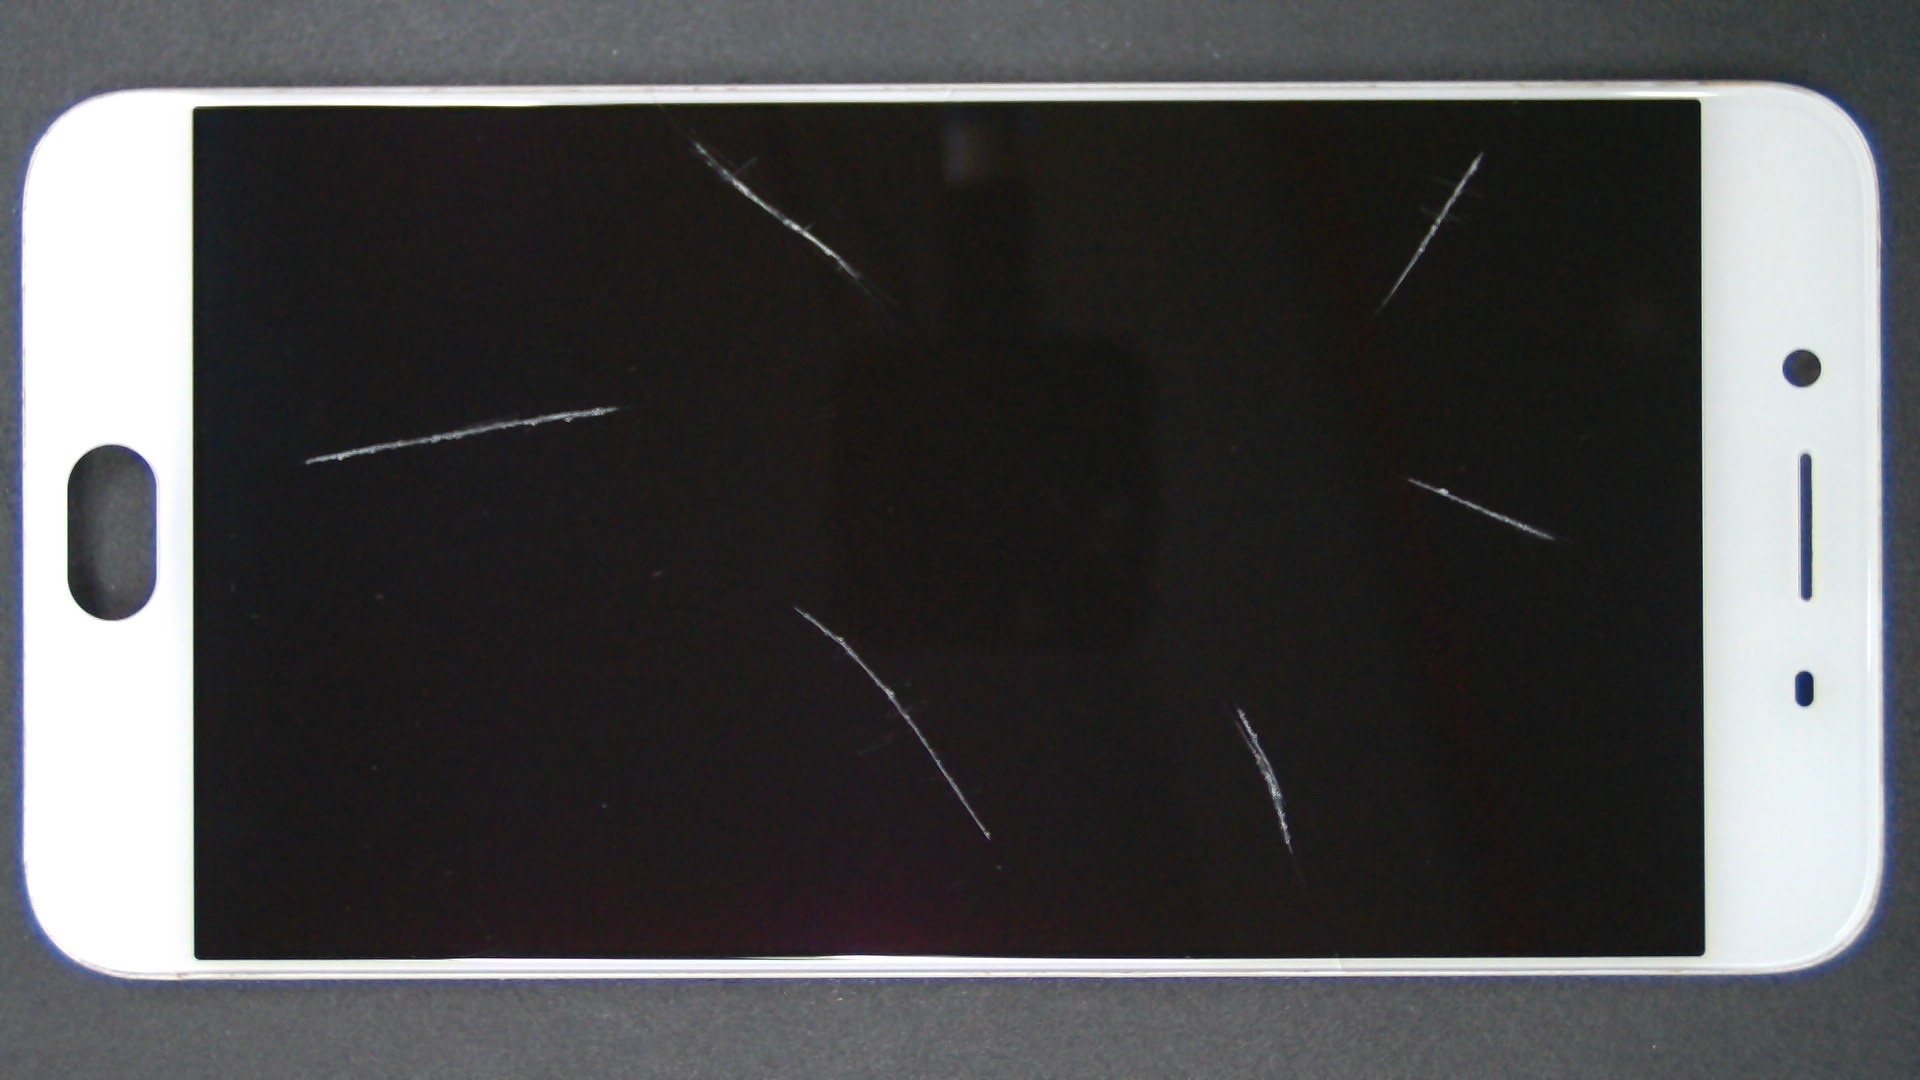oil: (620, 353, 1857, 1063), (705, 237, 1920, 715), (398, 302, 1193, 910), (303, 203, 907, 609), (741, 75, 1920, 231), (347, 69, 1040, 208)
